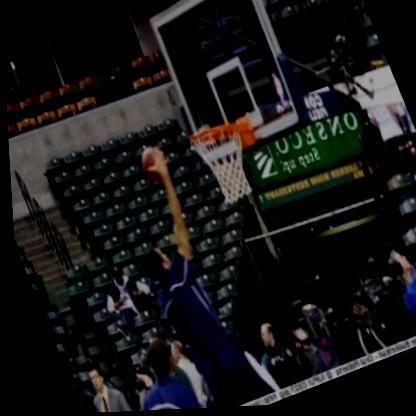basketball: (134, 144, 169, 183)
rim: (184, 112, 268, 216)
